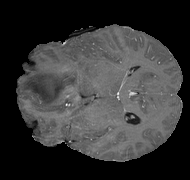Edema: (19, 46, 104, 118)
EnhancingTumors: (23, 85, 48, 115)
Necrosis: (12, 47, 90, 113)
